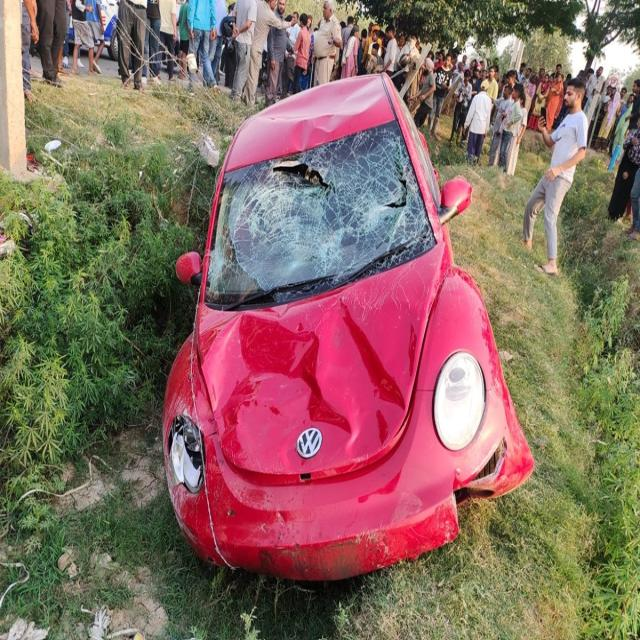accident: (162, 74, 534, 580)
